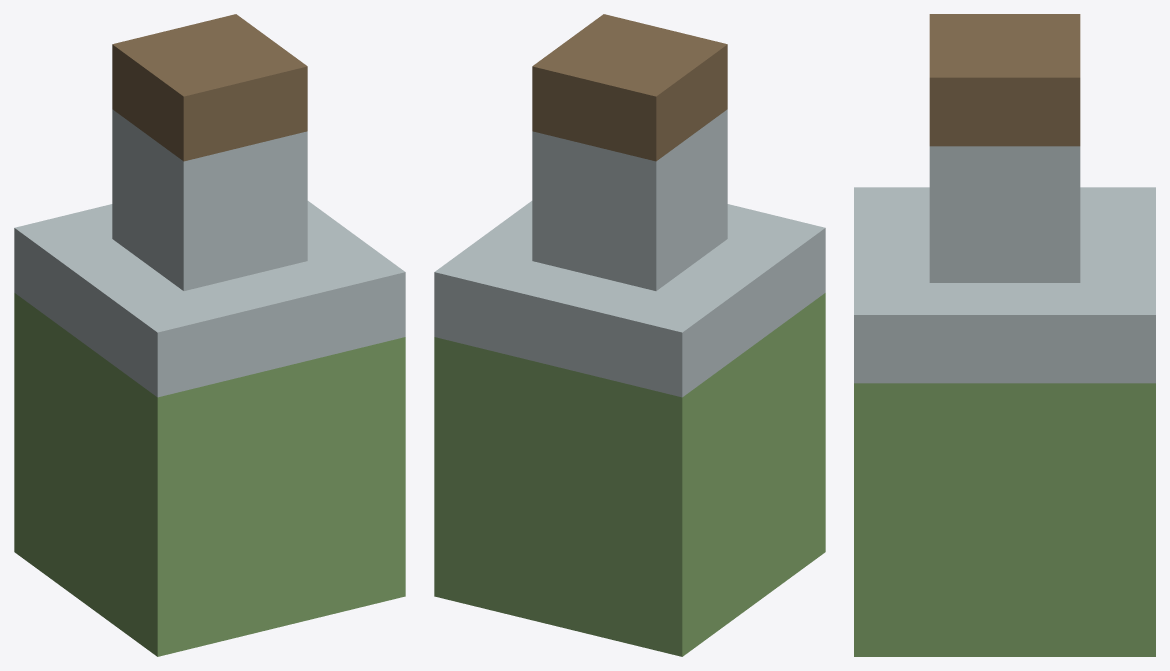
Rendered from pocion_alquimica_toxica_01.glb.
3 views of the same model, side by side, from view 1: azimuth 30°, elevation 25°; view 2: azimuth 150°, elevation 25°; view 3: azimuth 270°, elevation 25° (orthographic). The views are drawn at different scales.
Parts seen in each view (by area): view 1: pocion_alquimica_toxica; view 2: pocion_alquimica_toxica; view 3: pocion_alquimica_toxica.
Part boxes in pixels (left/top/right/bottom): pocion_alquimica_toxica: left=14, top=14, right=405, bottom=656; pocion_alquimica_toxica: left=434, top=14, right=825, bottom=656; pocion_alquimica_toxica: left=854, top=14, right=1155, bottom=656.
Size of the model in its own units: 0.3333 by 0.6667 by 0.3333.
